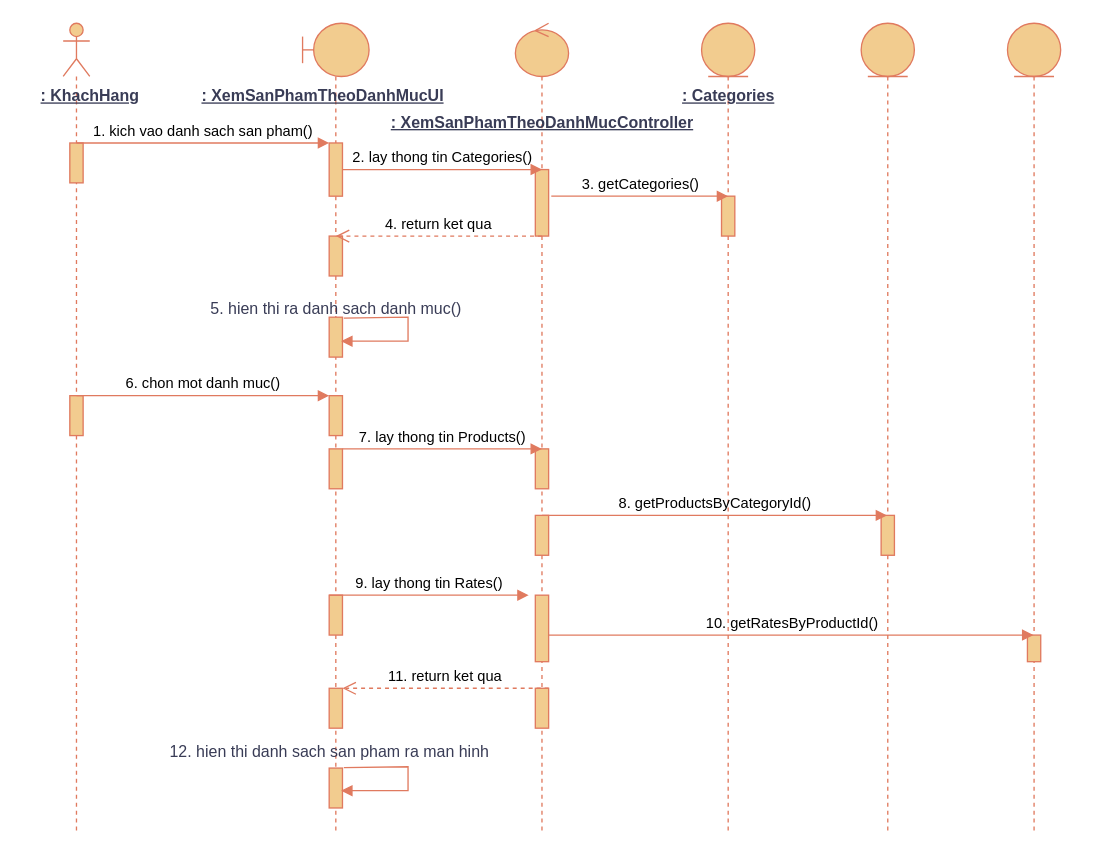
This 1096x858 diagram has some shape labels left out. Each missing label, with the box of its shape:
: Products: (860, 22, 914, 835)
:Rates: (1006, 22, 1061, 835)
